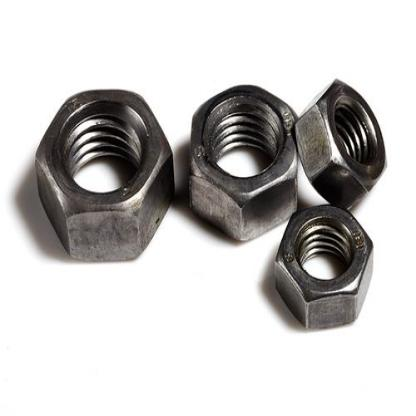FOD: (34, 86, 178, 264), (188, 79, 300, 245), (272, 202, 382, 336), (293, 74, 389, 214)
